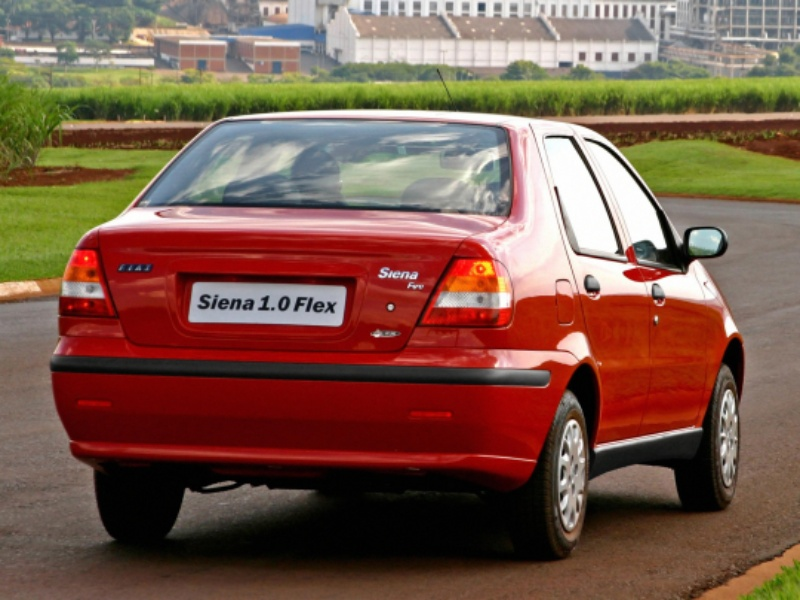ruim: (605, 251, 800, 482)
